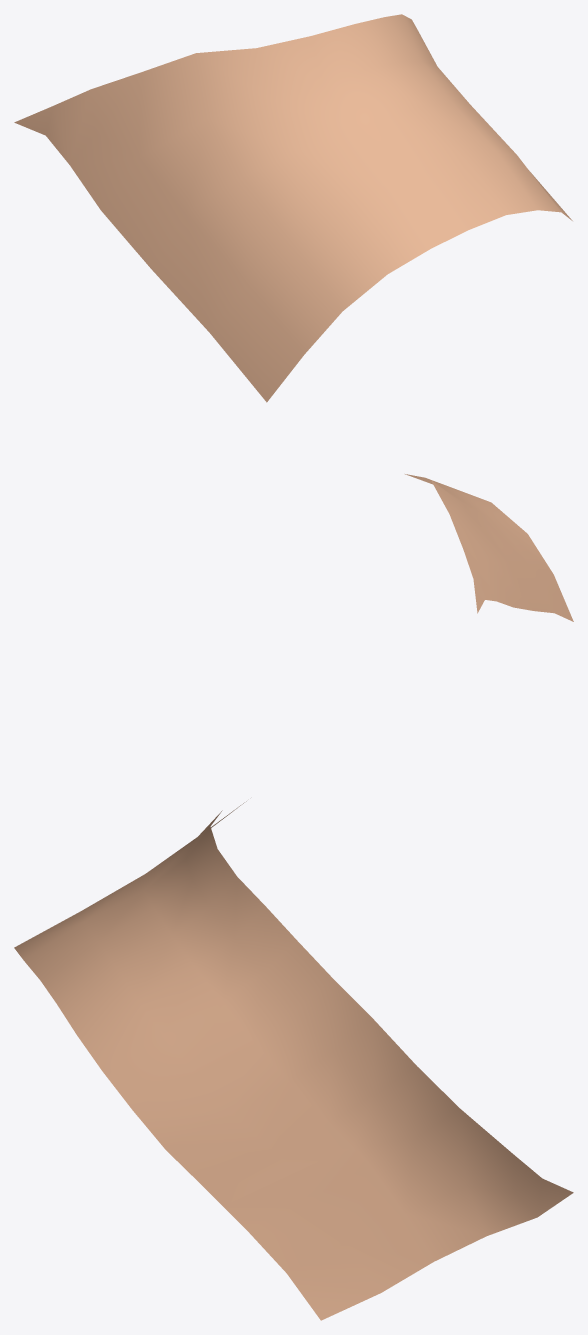
File: dorsum-of-foot-l.glb
3 views of the same model, one above another, from view 1: azimuth 30°, elevation 25°; view 2: azimuth 150°, elevation 25°; view 3: azimuth 270°, elevation 25° (orthographic). The views are drawn at different scales.
Visible parts, largest first — view 1: Dorsum of foot.l; view 2: Dorsum of foot.l; view 3: Dorsum of foot.l.
Part boxes in pixels (x1,y1,x2,y2): Dorsum of foot.l: [14, 14, 572, 402]; Dorsum of foot.l: [405, 474, 573, 621]; Dorsum of foot.l: [14, 801, 573, 1320].
Bounding box in the file's own units: 0.0757 × 0.0584 × 0.0808.
